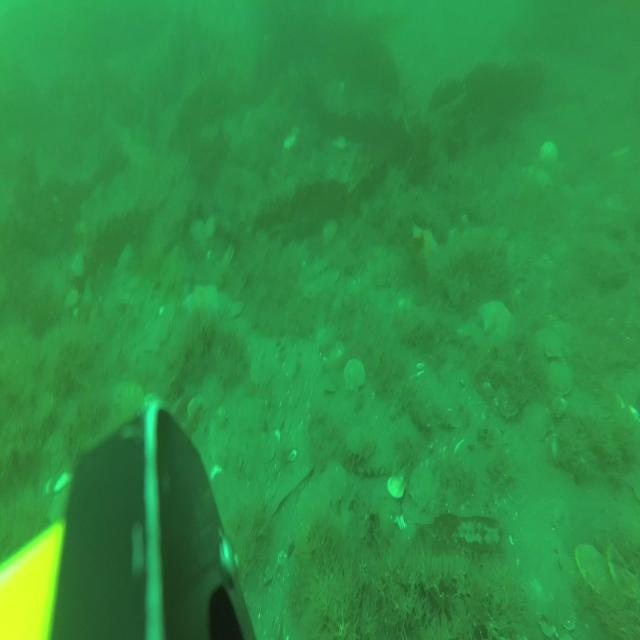scallop: (573, 538, 612, 600), (297, 486, 331, 532), (408, 465, 438, 510), (321, 460, 350, 506), (522, 401, 553, 443), (534, 325, 566, 364), (495, 380, 525, 420), (544, 358, 574, 396), (342, 353, 367, 398), (202, 369, 228, 409), (186, 392, 208, 426), (539, 136, 561, 169), (322, 215, 339, 246), (70, 250, 88, 279), (63, 287, 81, 315), (387, 474, 406, 500), (227, 296, 243, 326), (188, 218, 205, 244), (222, 242, 235, 268), (203, 214, 217, 237)
starfish: (181, 279, 223, 326), (479, 295, 516, 340)
